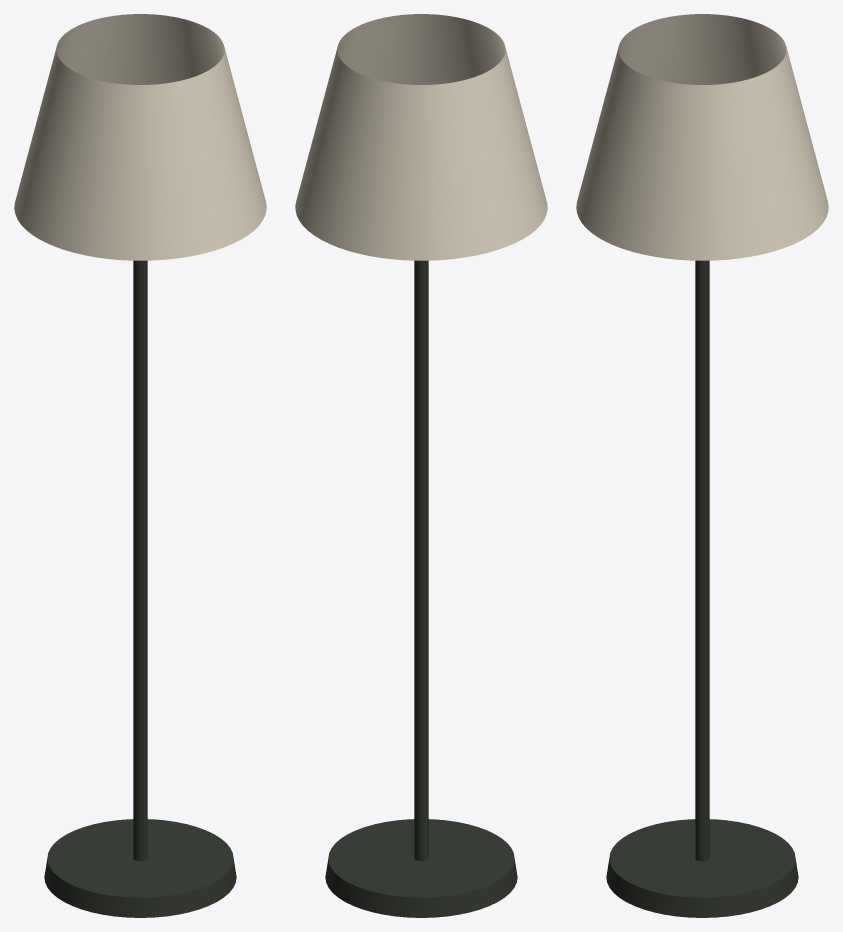
File: beam-lamp-ivory.glb
3 renders of one model, left to right at view 1: azimuth 30°, elevation 25°; view 2: azimuth 150°, elevation 25°; view 3: azimuth 270°, elevation 25°, orthographic.
Visible parts, largest first — view 1: The Beam Lamp — Ivory; view 2: The Beam Lamp — Ivory; view 3: The Beam Lamp — Ivory.
Boxes of the visible parts, x1=… form: The Beam Lamp — Ivory: x1=14, y1=14, x2=266, y2=917; The Beam Lamp — Ivory: x1=295, y1=14, x2=547, y2=917; The Beam Lamp — Ivory: x1=576, y1=14, x2=828, y2=917.
Bounding box in the file's own units: 0.42 × 1.52 × 0.42.
